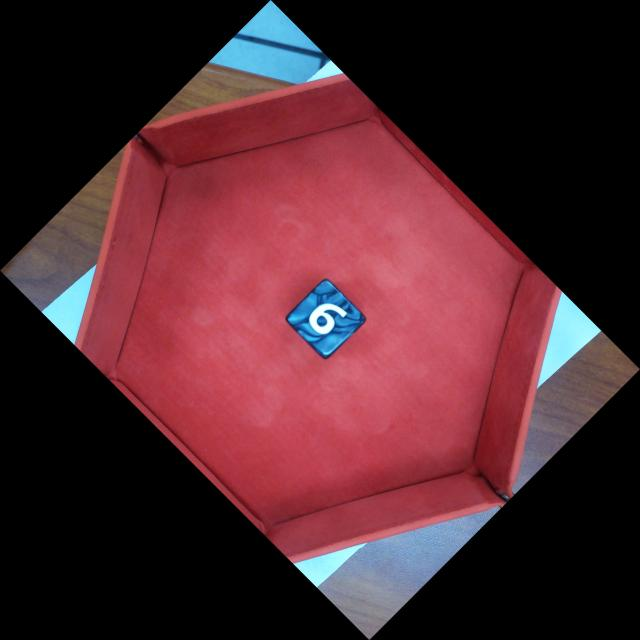dice: (283, 275, 370, 363)
